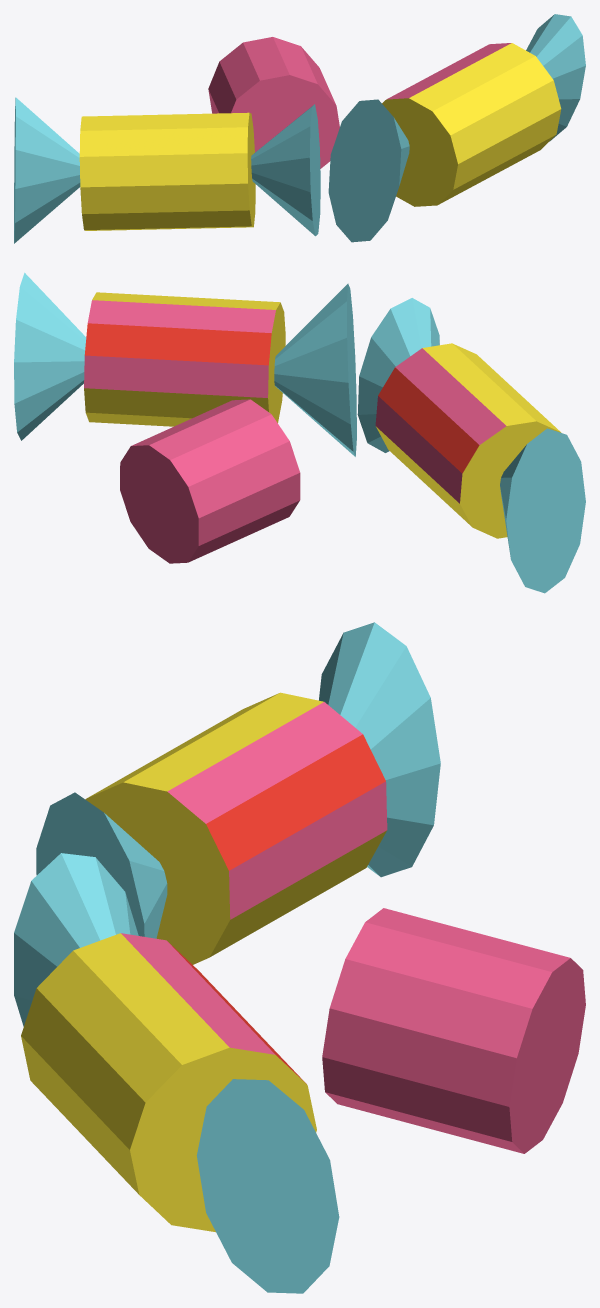
Rendered from candy3.glb.
The picture shows the model from 3 angles, top to bottom: view 1: azimuth 30°, elevation 25°; view 2: azimuth 150°, elevation 25°; view 3: azimuth 270°, elevation 25°; orthographic projection. The views are drawn at different scales.
Visible parts, largest first — view 1: group1366412244, group1940540970, group607043271; view 2: group1940540970, group1366412244, group607043271; view 3: group1940540970, group1366412244, group607043271.
Part boxes in pixels (x1=…): group1366412244: x1=14, y1=97, x2=320, y2=243; group1940540970: x1=328, y1=14, x2=585, y2=242; group607043271: x1=208, y1=37, x2=339, y2=168; group1940540970: x1=14, y1=272, x2=356, y2=456; group1366412244: x1=357, y1=298, x2=585, y2=593; group607043271: x1=120, y1=399, x2=300, y2=563; group1940540970: x1=14, y1=853, x2=339, y2=1293; group1366412244: x1=36, y1=622, x2=440, y2=964; group607043271: x1=322, y1=908, x2=585, y2=1153.
Size of the model in its own units: 0.4206 by 0.121 by 0.226.
